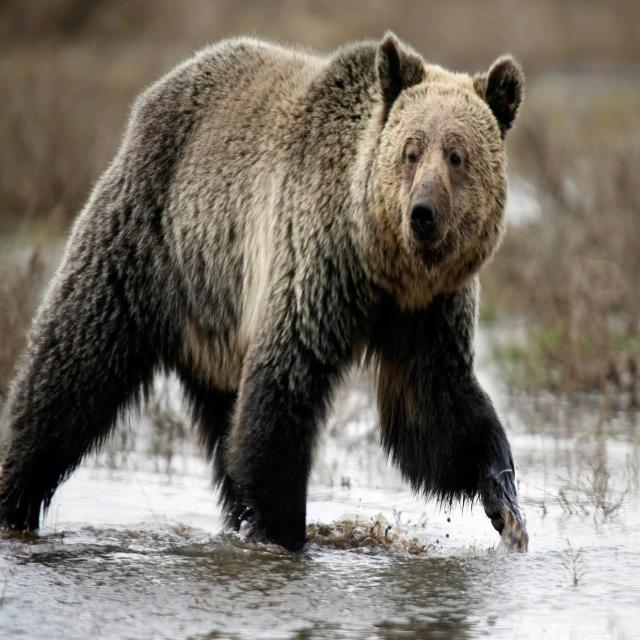Bear: (0, 30, 529, 556)
